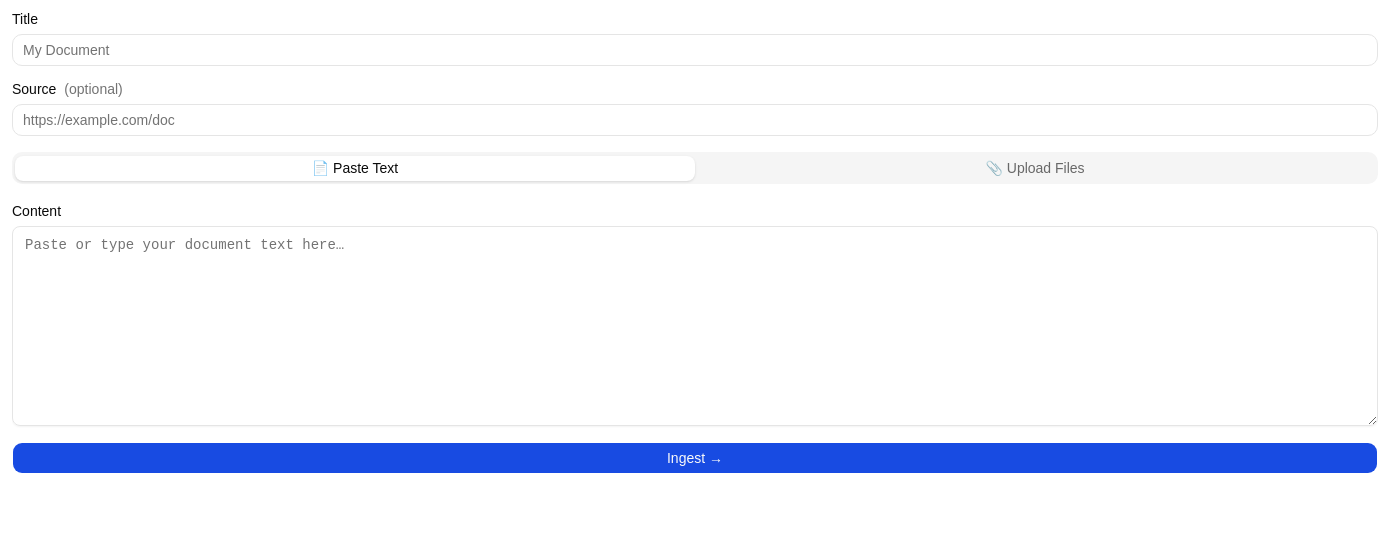
Test: IngestDocumentForm — text mode validation › shows validation error when submitting with empty title
Click the button "Ingest →" at (695, 458), box [12,442,1378,474]
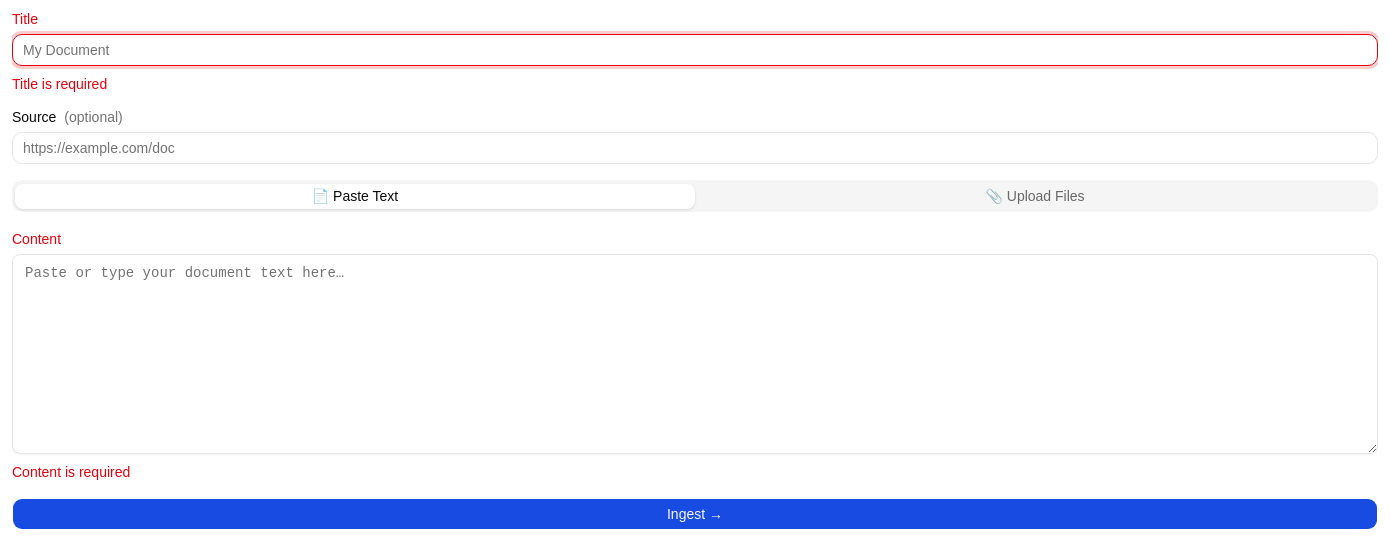
Check: the text "Title is required" is shown, box [12,76,107,92]
